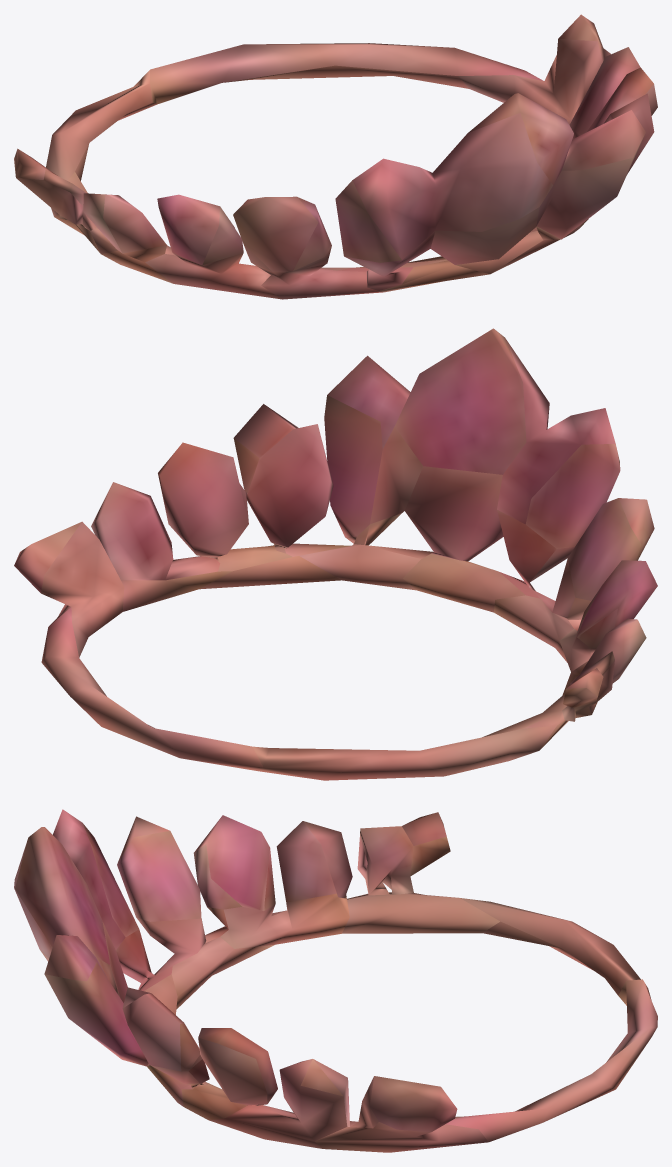
3 renders of one model, top to bottom at view 1: azimuth 30°, elevation 25°; view 2: azimuth 150°, elevation 25°; view 3: azimuth 270°, elevation 25°, orthographic. The views are drawn at different scales.
Visible parts, largest first — view 1: Pink-Crown-03; view 2: Pink-Crown-03; view 3: Pink-Crown-03.
Boxes of the visible parts, <box> form: Pink-Crown-03: <box>14,14,657,299</box>; Pink-Crown-03: <box>14,328,657,780</box>; Pink-Crown-03: <box>14,809,657,1152</box>.
Bounding box in the file's own units: 0.2718 × 0.1011 × 0.2654.
1 material, 1 textured.
